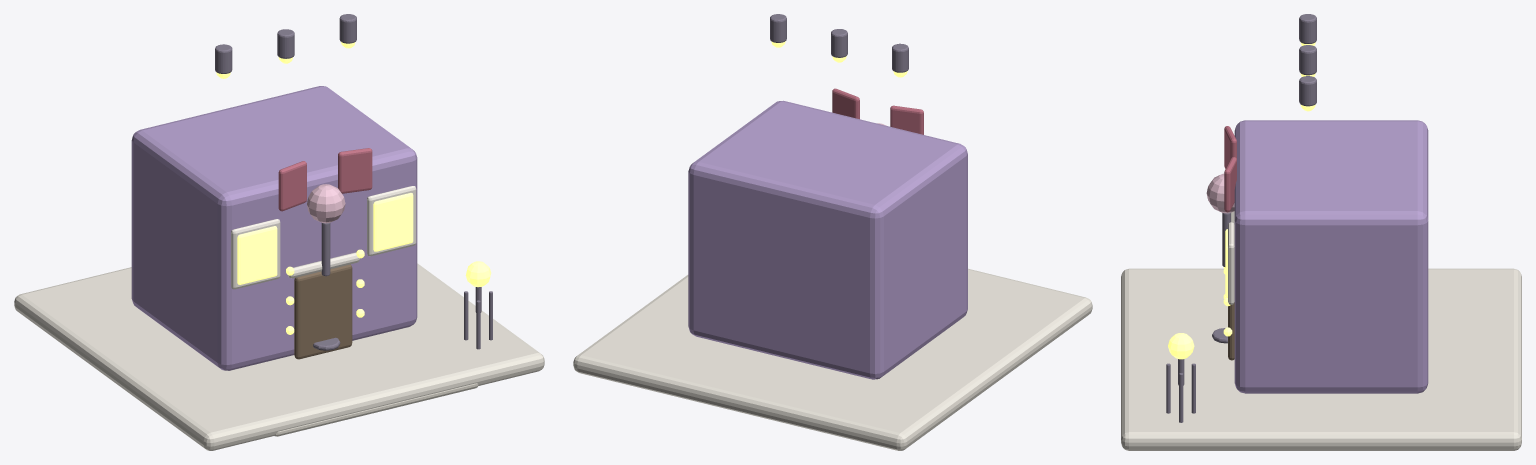
The model's file is talkshow.glb.
The picture shows the model from 3 angles, left to right: view 1: azimuth 30°, elevation 25°; view 2: azimuth 150°, elevation 25°; view 3: azimuth 270°, elevation 25°; orthographic projection. The views are drawn at different scales.
Visible parts, largest first — view 1: QBase, QTalkBulb0_0, QTalkMicBase; view 2: QBase, QTalkMicBase; view 3: QBase, QTalkMicBase, QTalkBulb0_0.
Boxes of the visible parts, x1=… form: QBase: x1=14, y1=86, x2=544, y2=450; QTalkBulb0_0: x1=216, y1=42, x2=491, y2=334; QTalkMicBase: x1=215, y1=14, x2=492, y2=350; QBase: x1=573, y1=88, x2=1092, y2=450; QTalkMicBase: x1=770, y1=14, x2=908, y2=72; QBase: x1=1121, y1=120, x2=1521, y2=450; QTalkMicBase: x1=1166, y1=14, x2=1316, y2=422; QTalkBulb0_0: x1=1168, y1=42, x2=1315, y2=359.
Size of the model in its own units: 6 by 5.3 by 6.
Materials: 3 (3 with a texture image).
